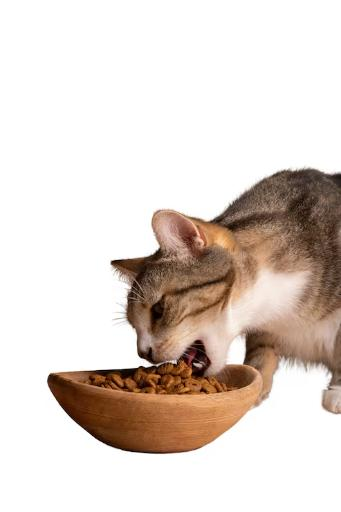cat_eating: (48, 169, 340, 452)
